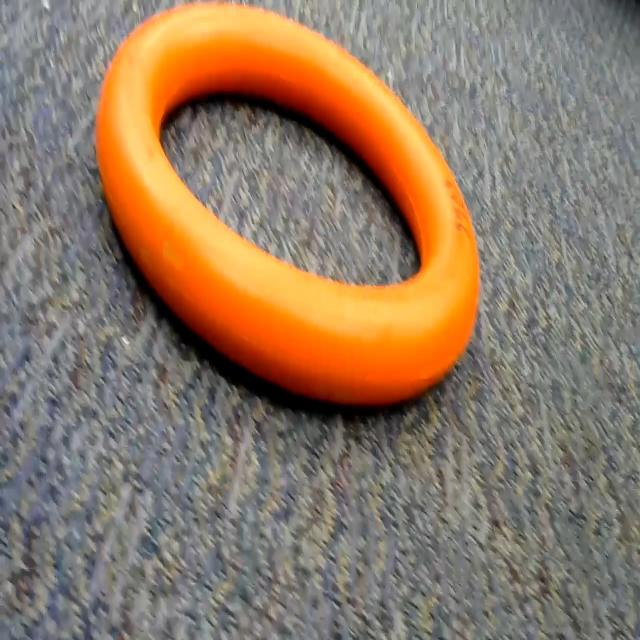note: (75, 0, 505, 431)
